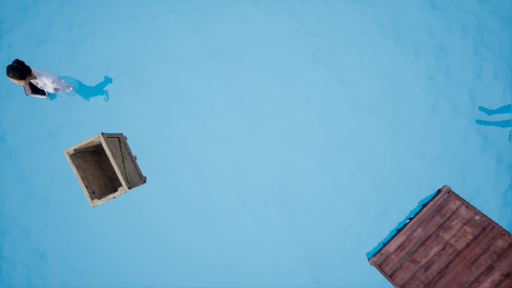person: (13, 55, 117, 112)
